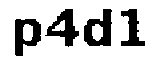1: (119, 6, 147, 49)
4: (45, 6, 79, 51)
d: (84, 5, 112, 49)
p: (11, 17, 45, 59)
